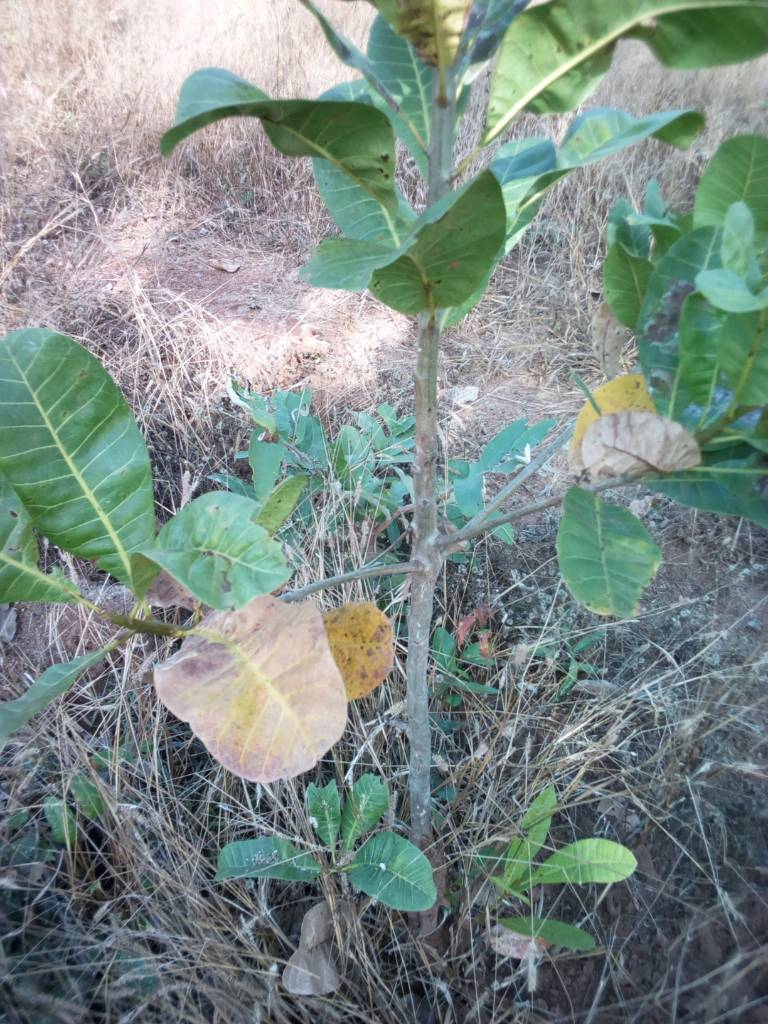Bactériose: (152, 596, 355, 777)
